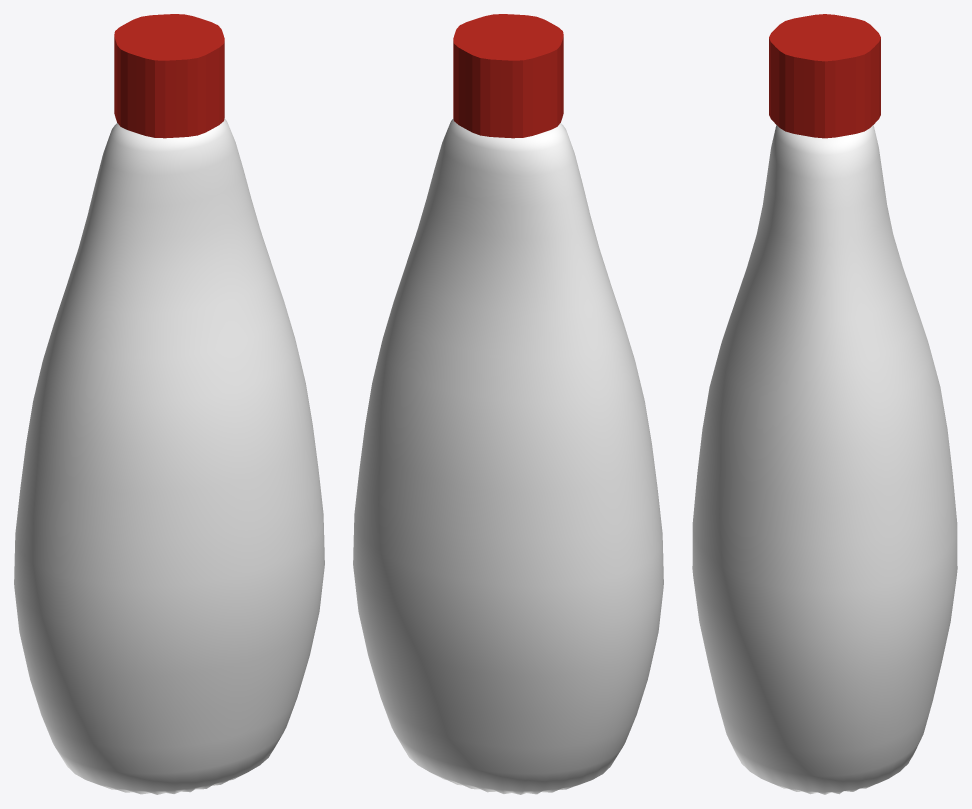
Rendered from 260808_Mayo_01.fbx.
The picture shows the model from 3 angles, left to right: view 1: azimuth 30°, elevation 25°; view 2: azimuth 150°, elevation 25°; view 3: azimuth 270°, elevation 25°; orthographic projection.
Parts seen in each view (by area): view 1: Mayo_tong, Mayo_dduking; view 2: Mayo_tong, Mayo_dduking; view 3: Mayo_tong, Mayo_dduking.
Boxes of the visible parts, x1,y1,x2,y2 form: Mayo_tong: (14, 118, 324, 794); Mayo_dduking: (114, 14, 224, 138); Mayo_tong: (353, 118, 663, 794); Mayo_dduking: (453, 14, 563, 138); Mayo_tong: (692, 125, 957, 794); Mayo_dduking: (769, 14, 880, 138).
Size of the model in its own units: 172 by 430 by 142.
